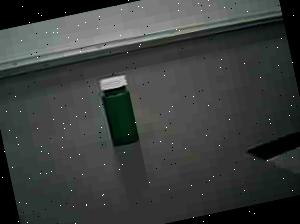Bottle C: (86, 63, 157, 154)
